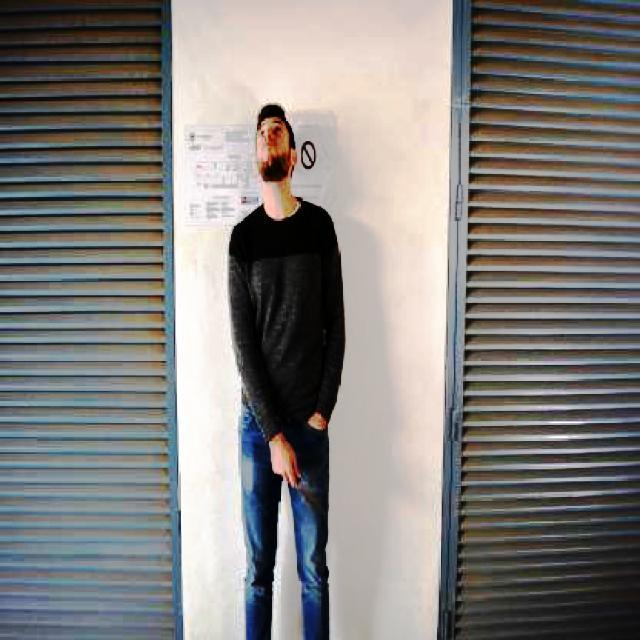Knife: (292, 473, 331, 528)
